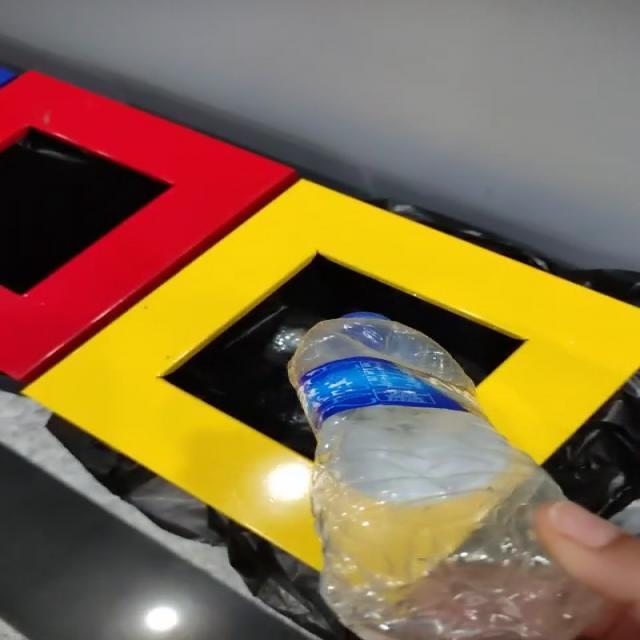Plastic: (288, 314, 600, 640)
